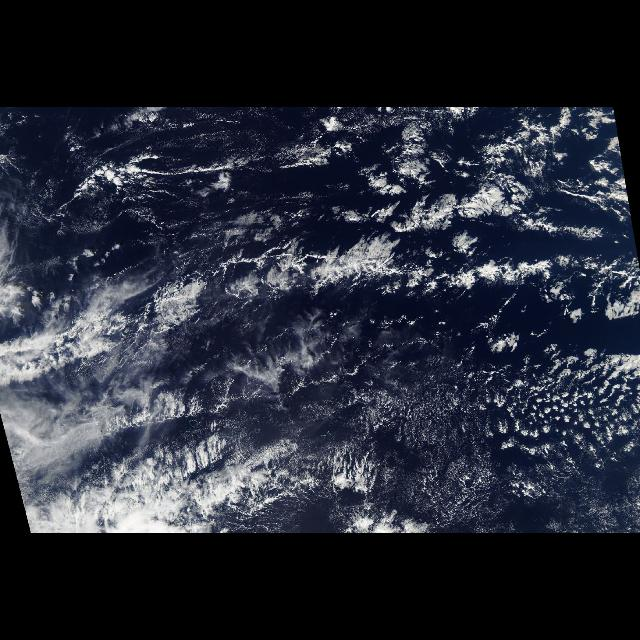Fish: (110, 122, 626, 334)
Gravel: (392, 352, 636, 528), (202, 316, 362, 394)
Sugar: (3, 109, 277, 200), (365, 356, 497, 516)
